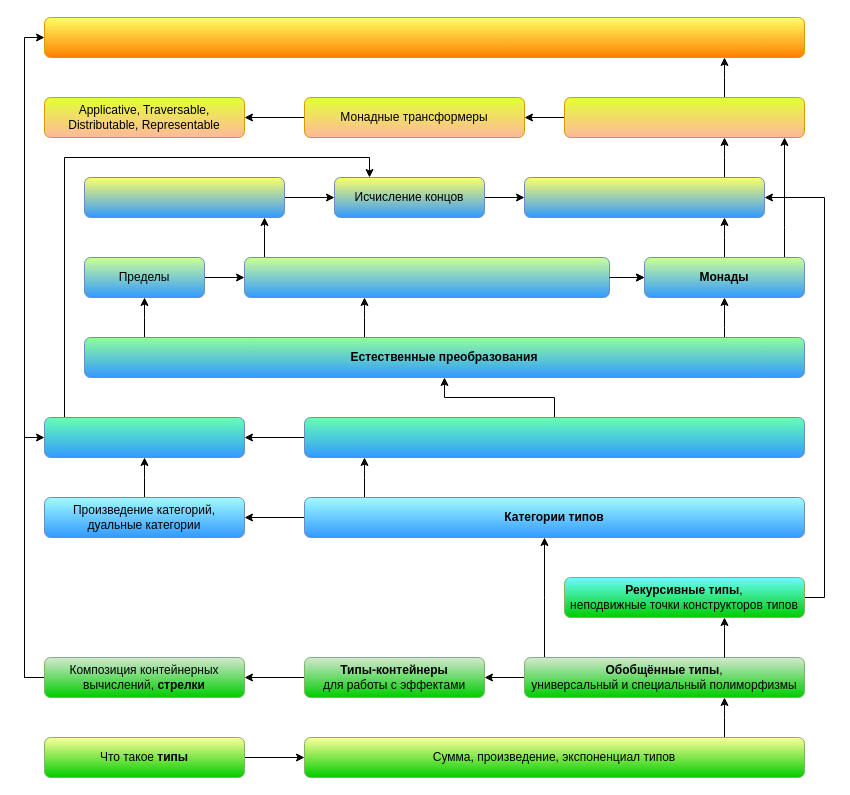
Some shapes in this 850 by 795 pixel diagram are drawn without their labels. Each missing label, with the centre of its shape:
"Альтернативы монадам" belongs at point 424,37.
"Композиция монад" belongs at point 684,117.
"Профункторы" belongs at point 144,437.
"Расширения Кана" belongs at point 184,197.
"Свободные функторы и монады" belongs at point 644,197.
"Сопряжённые функторы" belongs at point 427,277.
"Функторы" belongs at point 554,437.
